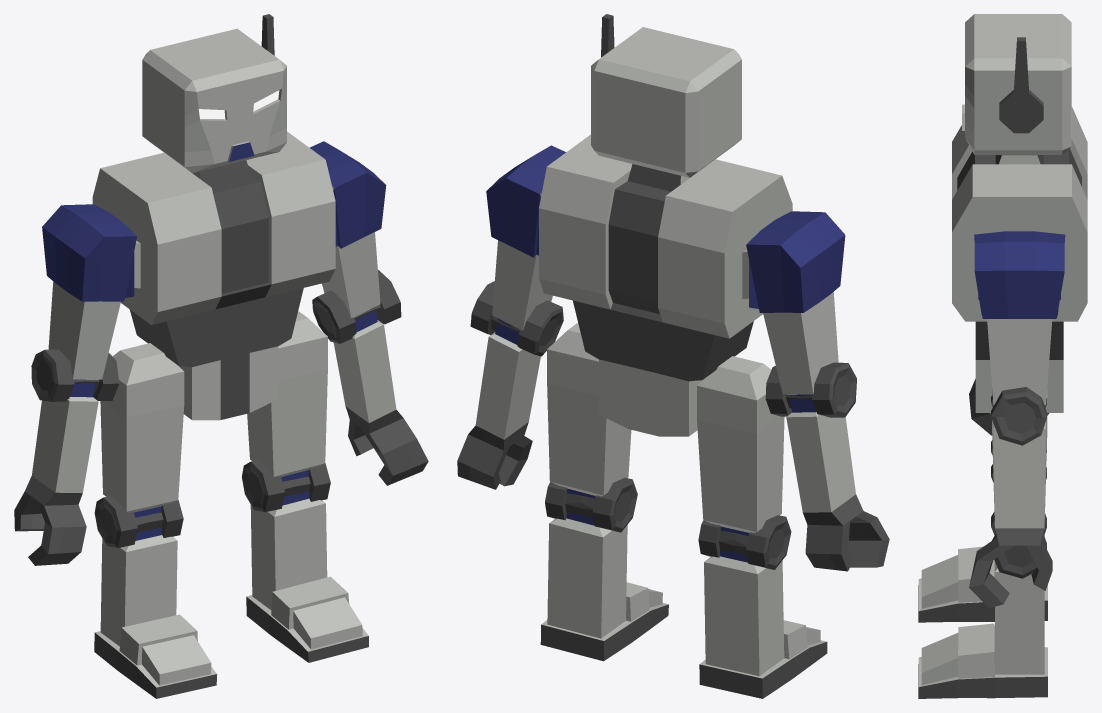
Rendered from SecurityRobo.glb.
3 renders of one model, left to right at view 1: azimuth 30°, elevation 25°; view 2: azimuth 150°, elevation 25°; view 3: azimuth 270°, elevation 25°, orthographic. The views are drawn at different scales.
Visible parts, largest first — view 1: Cube.068; view 2: Cube.068; view 3: Cube.068.
Boxes of the visible parts, x1,y1,x2,y2 form: Cube.068: [14, 14, 428, 698]; Cube.068: [457, 14, 889, 698]; Cube.068: [918, 14, 1087, 698].
Size of the model in its own units: 2.9 by 4.36 by 1.05.
